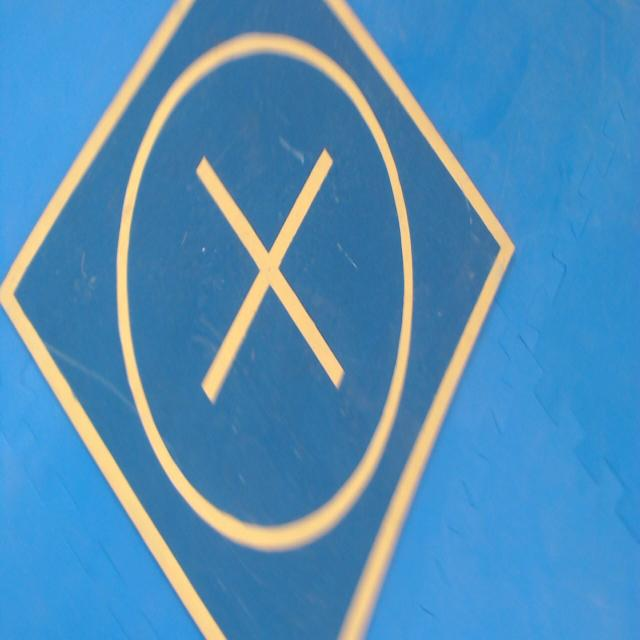base_pouso: (0, 0, 517, 639)
